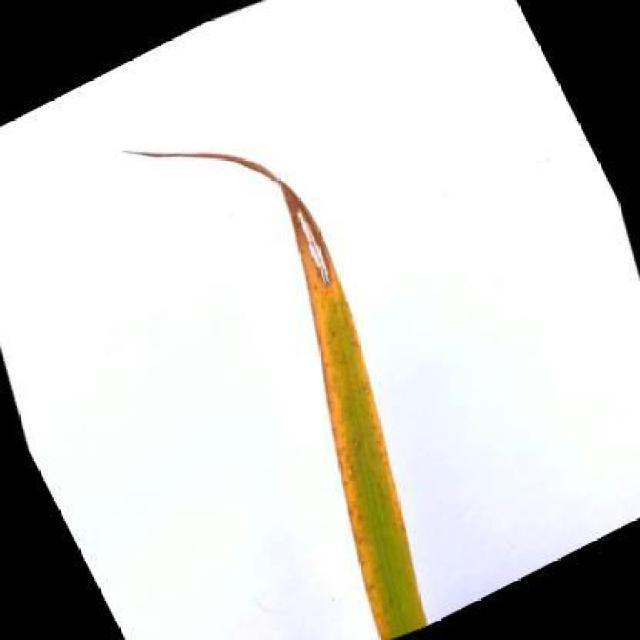Rice False Smut: (163, 197, 519, 640)
